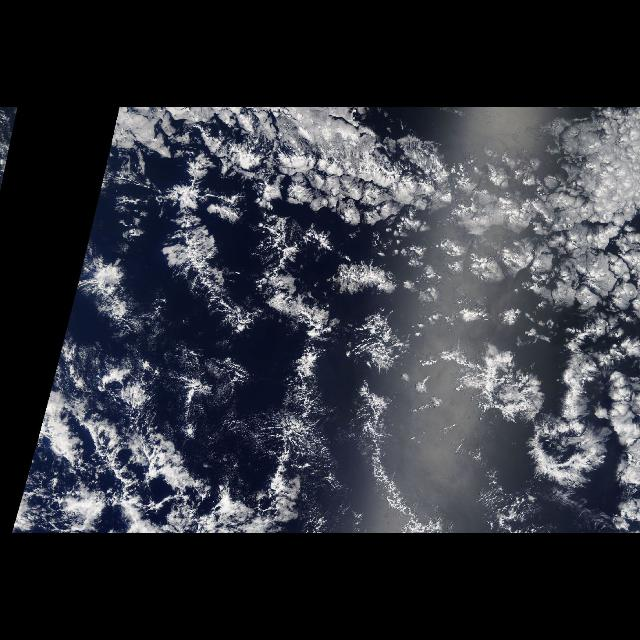Fish: (64, 184, 466, 534)
Flower: (220, 138, 640, 486)
Sugar: (210, 355, 282, 475)
